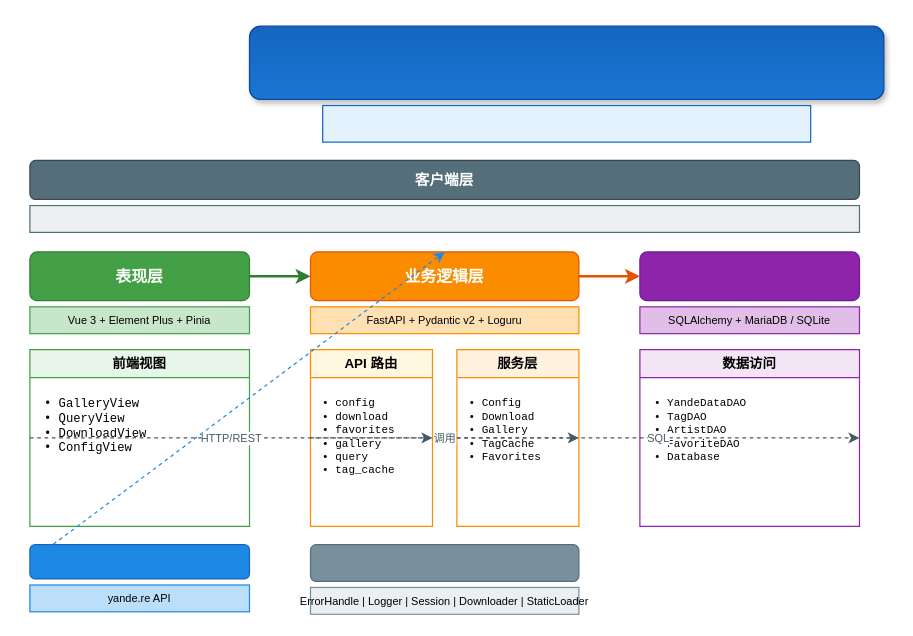
Image size: 913x636. Some labels were removed from this diagram. The centre of each missing label's shape, as x and y in pixels:
"Modern Image Download Manager" belongs at (x=566, y=123).
"Yande.re Spider Next" belongs at (x=567, y=64).
"中间件层" belongs at (x=444, y=562).
"外部服务" belongs at (x=139, y=561).
"数据访问层" belongs at (x=749, y=276).
"浏览器 / 移动端 / 桌面端" belongs at (x=444, y=218).
